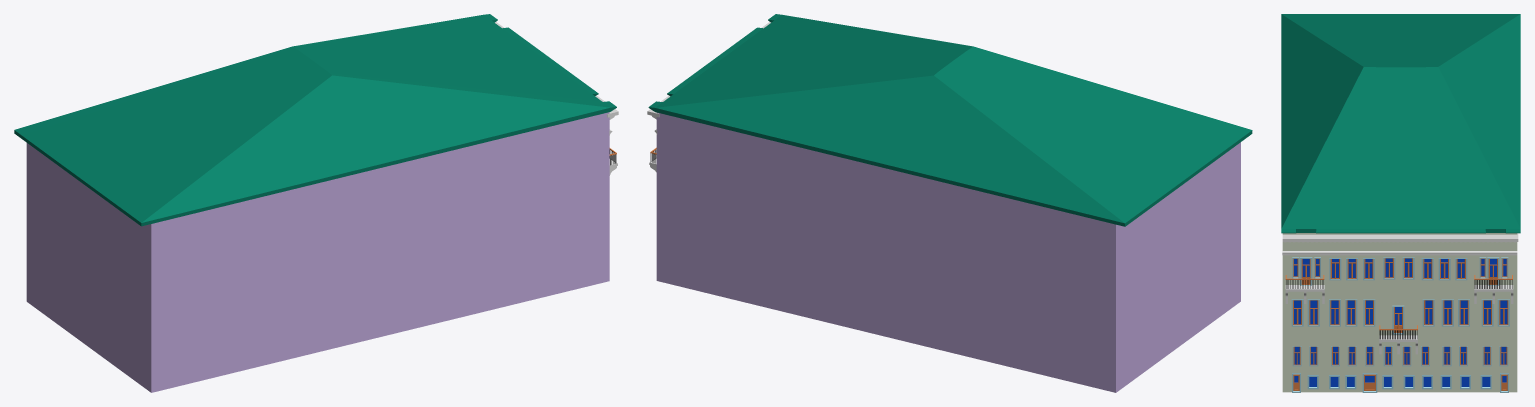
Rendered from Building_03_02.fbx.
The picture shows the model from 3 angles, left to right: view 1: azimuth 30°, elevation 25°; view 2: azimuth 150°, elevation 25°; view 3: azimuth 270°, elevation 25°; orthographic projection. The views are drawn at different scales.
Visible parts, largest first — view 1: 0_Corpus.005, roof.002; view 2: 0_Corpus.005, roof.002; view 3: roof.002, 0_Corpus.005, RoofHead2.004, BalconyBelt.029, Window 4 arr.035, Window 4 arr.032, Window 4 arr.044, Window 4 arr.033, Window 4 arr.039, Window 4 arr.037, Window 4 arr.040, Window 4 arr.034 (+19 smaller).
Boxes of the visible parts, x1,y1,x2,y2 form: 0_Corpus.005: [26, 112, 609, 392]; roof.002: [14, 14, 616, 226]; 0_Corpus.005: [656, 112, 1240, 392]; roof.002: [648, 14, 1252, 226]; roof.002: [1281, 14, 1520, 233]; 0_Corpus.005: [1282, 233, 1517, 392]; RoofHead2.004: [1282, 233, 1518, 241]; BalconyBelt.029: [1282, 251, 1517, 255]; Window 4 arr.035: [1421, 258, 1467, 280]; Window 4 arr.032: [1329, 258, 1374, 280]; Window 4 arr.044: [1365, 346, 1429, 366]; Window 4 arr.033: [1291, 299, 1319, 326]; Window 4 arr.039: [1481, 299, 1509, 326]; Window 4 arr.037: [1329, 299, 1357, 326]; Window 4 arr.040: [1441, 299, 1469, 326]; Window 4 arr.034: [1383, 257, 1414, 279].
Bounding box in the file's own units: 13122 × 6068 × 6038.
